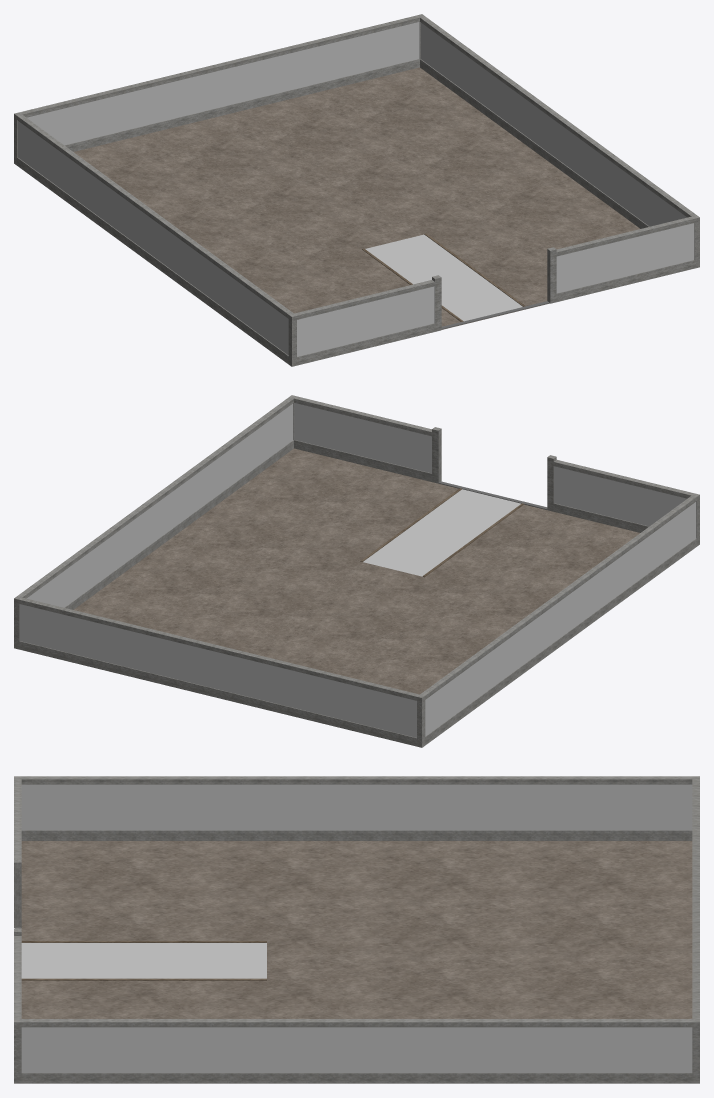
Rendered from Keidai.fbx.
3 views of the same model, one above another, from view 1: azimuth 30°, elevation 25°; view 2: azimuth 150°, elevation 25°; view 3: azimuth 270°, elevation 25° (orthographic). The views are drawn at different scales.
Visible parts, largest first — view 1: Keidai, ShrineWall, Road; view 2: Keidai, ShrineWall, Road; view 3: Keidai, ShrineWall, Road.
Boxes of the visible parts, x1,y1,x2,y2 form: Keidai: [74, 67, 639, 329]; ShrineWall: [14, 14, 699, 366]; Road: [362, 233, 525, 321]; Keidai: [74, 448, 639, 694]; ShrineWall: [14, 395, 699, 747]; Road: [360, 488, 524, 577]; Keidai: [15, 841, 692, 1018]; ShrineWall: [14, 776, 699, 1083]; Road: [21, 941, 266, 980].
Size of the model in its own units: 1163 by 145 by 1371.
